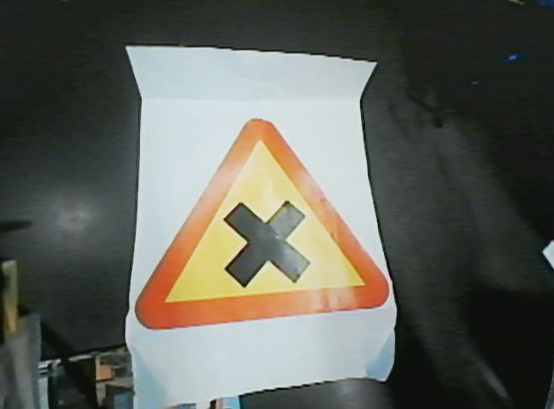junction: (140, 118, 394, 334)
